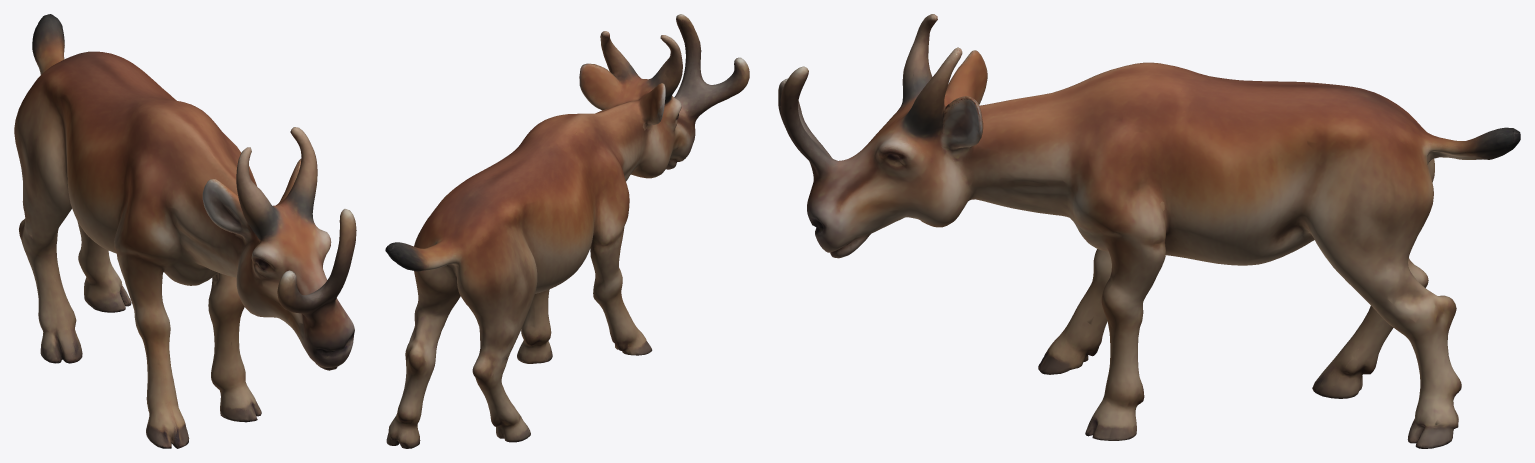
3 renders of one model, left to right at view 1: azimuth 30°, elevation 25°; view 2: azimuth 150°, elevation 25°; view 3: azimuth 270°, elevation 25°, orthographic. The views are drawn at different scales.
Parts seen in each view (by area): view 1: world; view 2: world; view 3: world.
Part boxes in pixels (box(x1,y1,x2,y2)): world: box(14, 14, 356, 448); world: box(385, 14, 749, 448); world: box(778, 14, 1520, 448).
Bounding box in the file's own units: 0.4956 × 1.13 × 2.
Materials: 1 (1 with a texture image).
